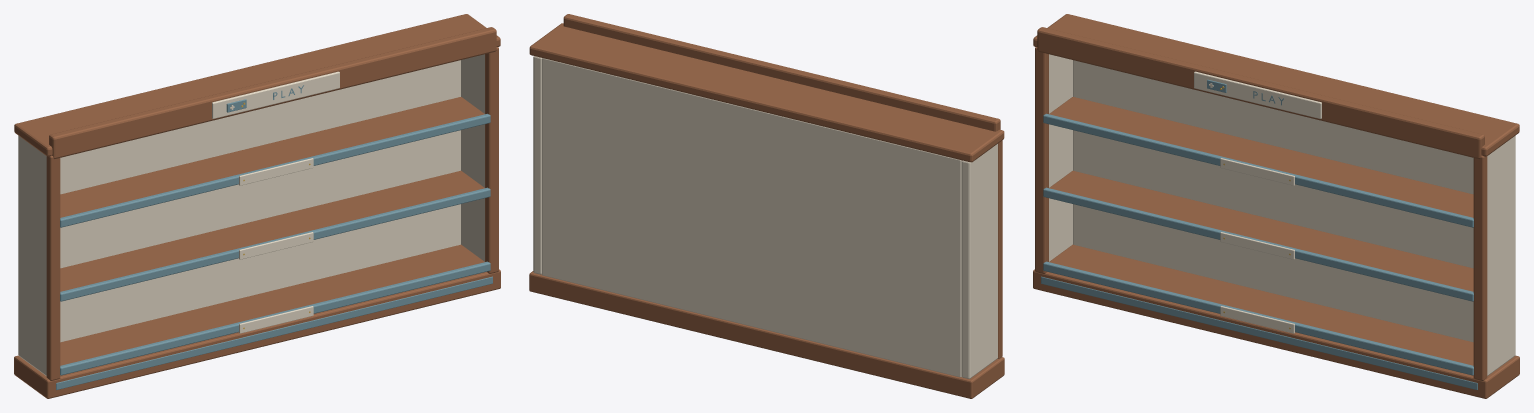
The model's file is CozyGamingShelf_v01.fbx.
The picture shows the model from 3 angles, left to right: view 1: azimuth 30°, elevation 25°; view 2: azimuth 150°, elevation 25°; view 3: azimuth 330°, elevation 25°; orthographic projection. The views are drawn at different scales.
Visible parts, largest first — view 1: CGS01_Cream_Back_Panel, CGS01_Row_01_Flat_Wood_Deck, CGS01_Row_03_Flat_Wood_Deck, CGS01_Row_02_Flat_Wood_Deck, CGS01_Wood_Header_Fascia, CGS01_Wood_Top_Cap, CGS01_Plinth_Wood, CGS01_Left_Cream_Side_Panel, CGS01_Row_03_Blue_Retaining_Lip, CGS01_Row_01_Blue_Retaining_Lip, CGS01_Row_02_Blue_Retaining_Lip, CGS01_Right_Cream_Side_Panel (+7 smaller); view 2: CGS01_Cream_Back_Panel, CGS01_Wood_Top_Cap, CGS01_Plinth_Wood, CGS01_Left_Cream_Side_Panel, CGS01_Wood_Header_Fascia, CGS01_Right_Cream_Side_Panel, CGS01_Left_Wood_Front_Post; view 3: CGS01_Cream_Back_Panel, CGS01_Row_01_Flat_Wood_Deck, CGS01_Row_03_Flat_Wood_Deck, CGS01_Row_02_Flat_Wood_Deck, CGS01_Wood_Header_Fascia, CGS01_Wood_Top_Cap, CGS01_Plinth_Wood, CGS01_Right_Cream_Side_Panel, CGS01_Row_03_Blue_Retaining_Lip, CGS01_Row_01_Blue_Retaining_Lip, CGS01_Row_02_Blue_Retaining_Lip, CGS01_Left_Cream_Side_Panel (+7 smaller).
Boxes of the visible parts, x1,y1,x2,y2 form: CGS01_Cream_Back_Panel: (60, 60, 460, 342); CGS01_Row_01_Flat_Wood_Deck: (60, 244, 484, 365); CGS01_Row_03_Flat_Wood_Deck: (60, 97, 484, 217); CGS01_Row_02_Flat_Wood_Deck: (60, 170, 484, 291); CGS01_Wood_Header_Fascia: (49, 27, 496, 158); CGS01_Wood_Top_Cap: (14, 14, 500, 156); CGS01_Plinth_Wood: (14, 269, 500, 398); CGS01_Left_Cream_Side_Panel: (18, 135, 46, 375); CGS01_Row_03_Blue_Retaining_Lip: (60, 113, 490, 227); CGS01_Row_01_Blue_Retaining_Lip: (60, 261, 490, 375); CGS01_Row_02_Blue_Retaining_Lip: (60, 187, 490, 301); CGS01_Right_Cream_Side_Panel: (461, 54, 484, 261); CGS01_Cream_Back_Panel: (542, 58, 961, 377); CGS01_Wood_Top_Cap: (529, 23, 1004, 162); CGS01_Plinth_Wood: (529, 271, 1004, 398); CGS01_Left_Cream_Side_Panel: (961, 144, 997, 378); CGS01_Wood_Header_Fascia: (563, 14, 1000, 131); CGS01_Right_Cream_Side_Panel: (533, 56, 541, 274); CGS01_Left_Wood_Front_Post: (997, 140, 1002, 358); CGS01_Cream_Back_Panel: (1073, 60, 1473, 342); CGS01_Row_01_Flat_Wood_Deck: (1049, 244, 1473, 365); CGS01_Row_03_Flat_Wood_Deck: (1049, 97, 1473, 217); CGS01_Row_02_Flat_Wood_Deck: (1049, 170, 1473, 291); CGS01_Wood_Header_Fascia: (1037, 27, 1484, 158); CGS01_Wood_Top_Cap: (1033, 14, 1519, 156); CGS01_Plinth_Wood: (1033, 269, 1519, 398); CGS01_Right_Cream_Side_Panel: (1487, 135, 1515, 375); CGS01_Row_03_Blue_Retaining_Lip: (1043, 113, 1473, 227); CGS01_Row_01_Blue_Retaining_Lip: (1043, 261, 1473, 375); CGS01_Row_02_Blue_Retaining_Lip: (1043, 187, 1473, 301); CGS01_Left_Cream_Side_Panel: (1049, 54, 1072, 261).
Bounding box in the file's own units: 553 × 304 × 78.75.
